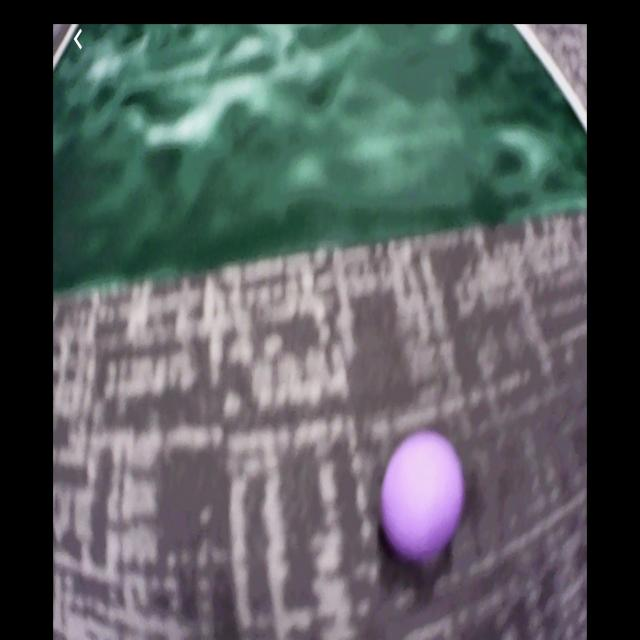ball: (383, 435, 464, 553)
